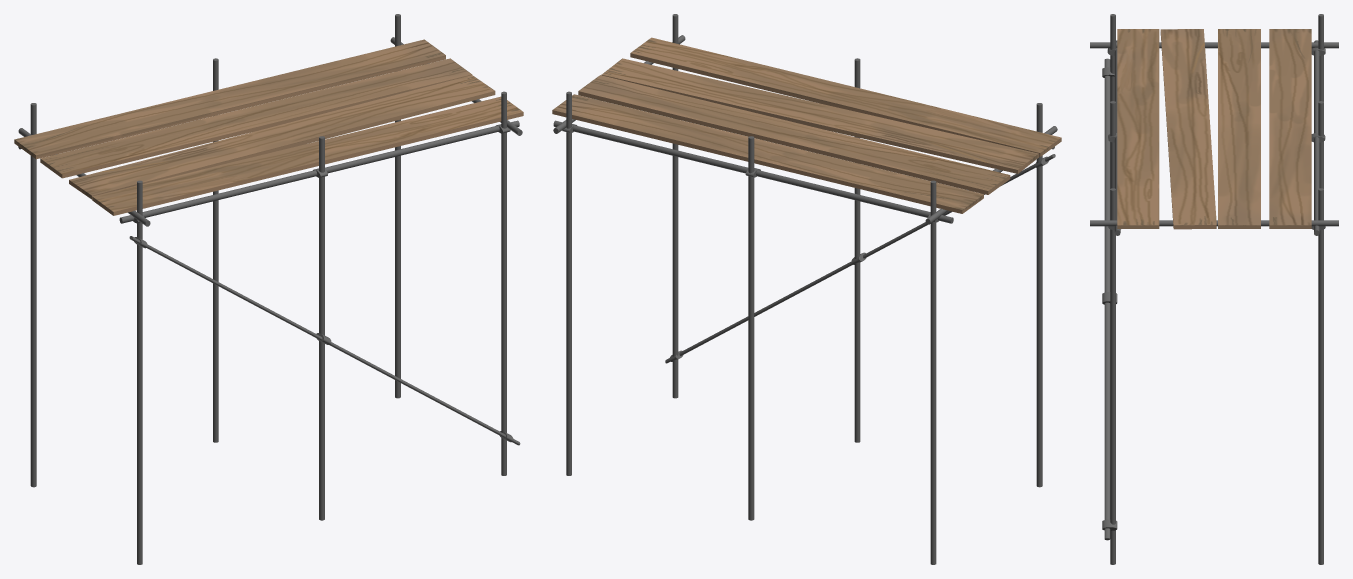
The model's file is MergedScafoldPlatform.fbx.
The picture shows the model from 3 angles, left to right: view 1: azimuth 30°, elevation 25°; view 2: azimuth 150°, elevation 25°; view 3: azimuth 270°, elevation 25°; orthographic projection. The views are drawn at different scales.
Visible parts, largest first — view 1: MergedScafolding2M; view 2: MergedScafolding2M; view 3: MergedScafolding2M.
Part boxes in pixels (bbox=[...]): MergedScafolding2M: bbox=[14, 14, 523, 564]; MergedScafolding2M: bbox=[552, 14, 1061, 564]; MergedScafolding2M: bbox=[1090, 14, 1338, 564].
Bounding box in the file's own units: 2.26 × 2 × 1.21.
